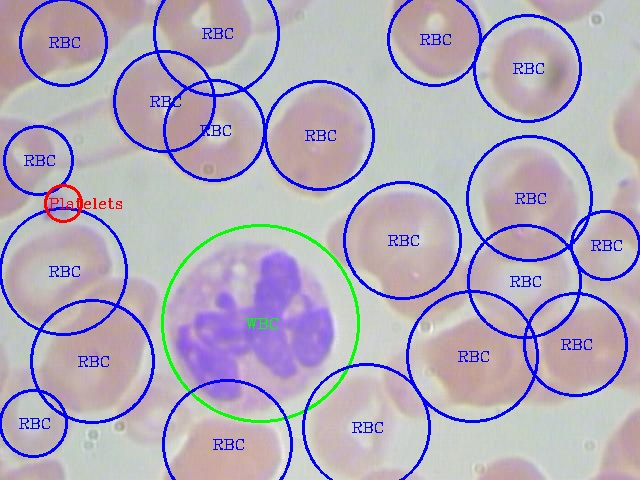Platelets: (38, 186, 76, 226)
RBC: (0, 221, 115, 326), (103, 51, 219, 154), (261, 92, 371, 198), (475, 145, 581, 254), (351, 183, 461, 285), (461, 226, 571, 325), (159, 88, 268, 187), (301, 371, 403, 473), (423, 313, 529, 409), (483, 19, 584, 119), (35, 319, 137, 412), (538, 301, 638, 391), (376, 333, 472, 421), (384, 0, 488, 81), (167, 412, 287, 478), (376, 243, 472, 323), (0, 363, 80, 456), (569, 204, 639, 303), (154, 0, 254, 67), (110, 374, 197, 449)
WBC: (161, 234, 340, 421)
